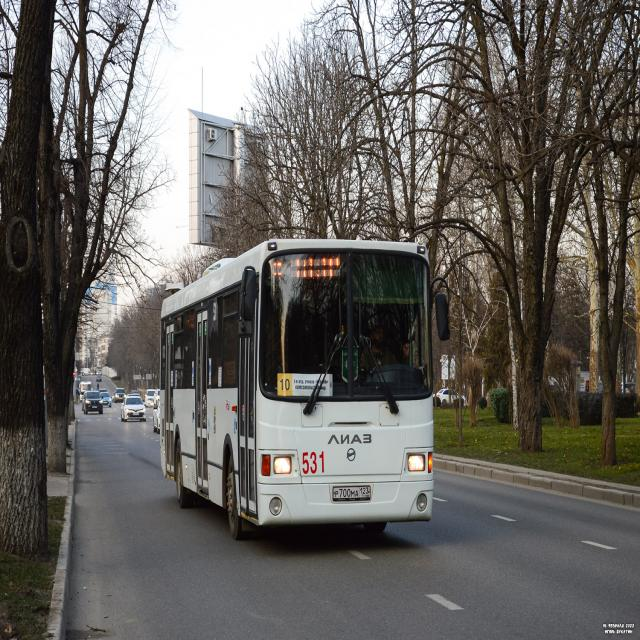number-of-bus: (279, 376, 293, 396)
